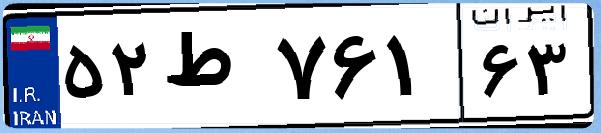1: (385, 28, 445, 110)
2: (110, 28, 158, 98)
3: (525, 38, 570, 115)
5: (57, 26, 110, 100)
6: (330, 28, 385, 110), (475, 38, 525, 113)
7: (270, 28, 330, 110)
ط: (158, 20, 270, 120)
